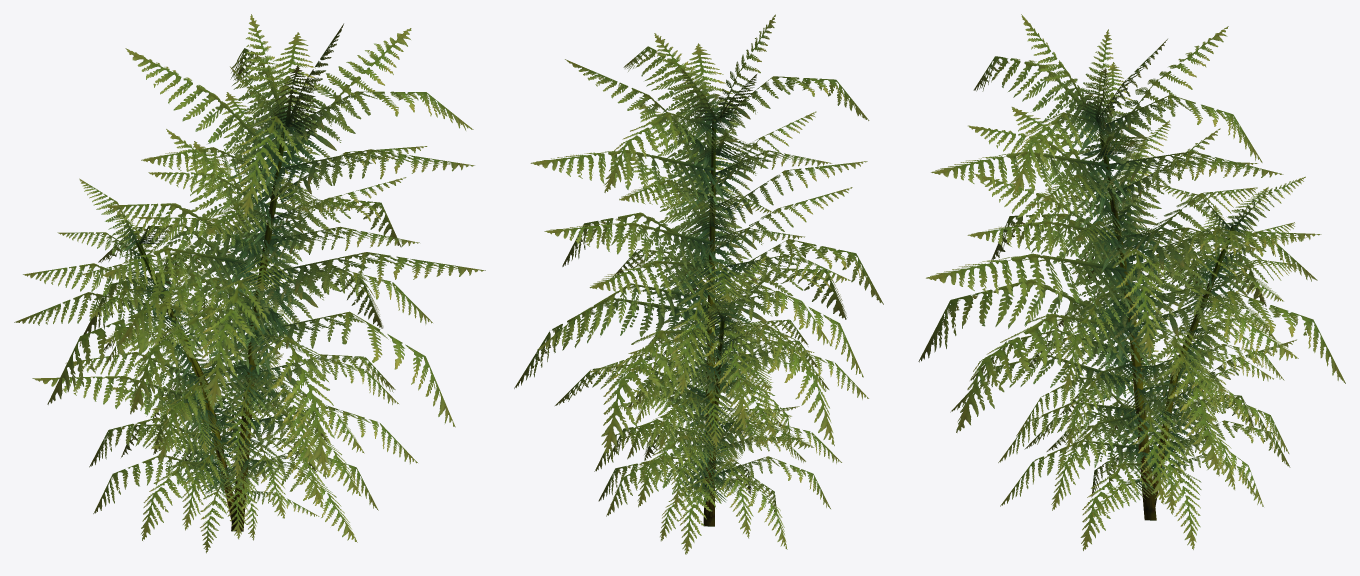
File: jiangnanguanmu_43.FBX
3 renders of one model, left to right at view 1: azimuth 30°, elevation 25°; view 2: azimuth 150°, elevation 25°; view 3: azimuth 270°, elevation 25°, orthographic. The views are drawn at different scales.
Visible parts, largest first — view 1: jiangnanguanmu_43; view 2: jiangnanguanmu_43; view 3: jiangnanguanmu_43.
Boxes of the visible parts, x1,y1,x2,y2 form: jiangnanguanmu_43: (14,14,485,553); jiangnanguanmu_43: (514,14,883,554); jiangnanguanmu_43: (918,14,1345,550).
Bounding box in the file's own units: 244 × 349 × 273.
